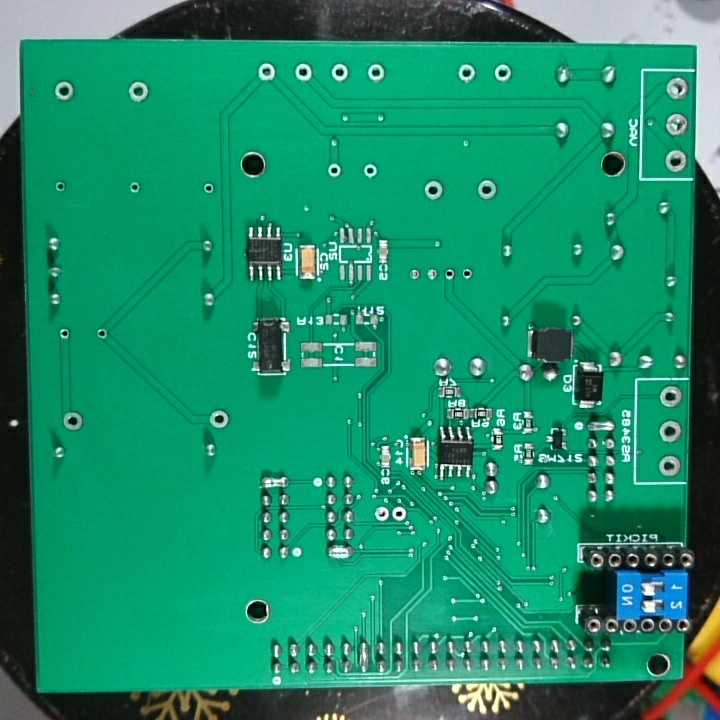F: (656, 382, 685, 410), (126, 78, 151, 109), (664, 74, 690, 103), (656, 452, 683, 479), (662, 148, 689, 175), (662, 112, 688, 139), (52, 78, 77, 105), (657, 419, 682, 445), (207, 407, 231, 432), (491, 62, 514, 85), (423, 179, 445, 203), (61, 409, 83, 433), (365, 61, 387, 84), (476, 178, 496, 203), (456, 60, 476, 85), (255, 62, 278, 83), (330, 60, 348, 85), (293, 62, 312, 83), (373, 503, 390, 525), (390, 503, 407, 524), (362, 161, 379, 180), (441, 266, 457, 285), (460, 266, 476, 283), (326, 162, 343, 178), (57, 325, 73, 342), (127, 180, 143, 197), (200, 180, 217, 196), (53, 178, 69, 195), (425, 265, 438, 283), (407, 267, 421, 283), (95, 326, 108, 343)
P: (584, 417, 618, 433), (356, 640, 371, 674), (325, 546, 358, 561), (257, 475, 291, 489)
